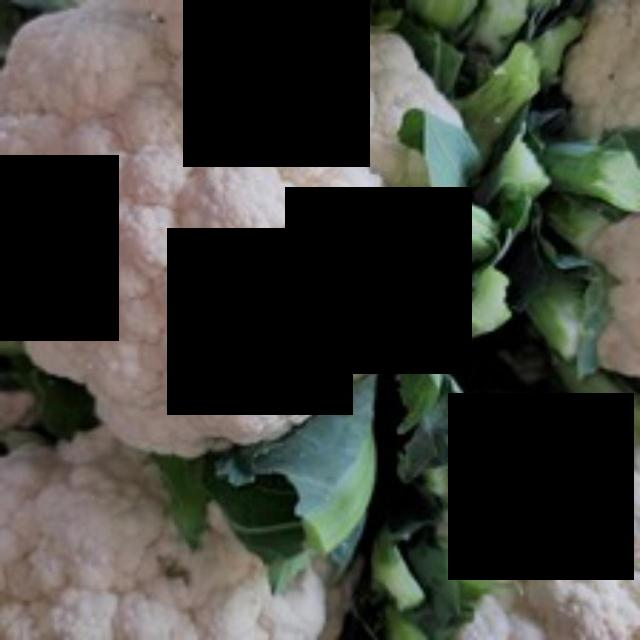cauliflower: (3, 0, 486, 461)
